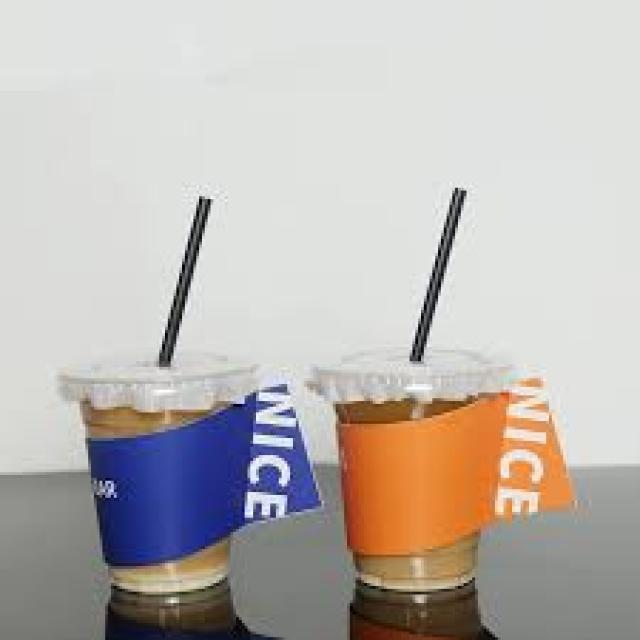cup: (59, 369, 256, 593), (335, 394, 507, 592)
